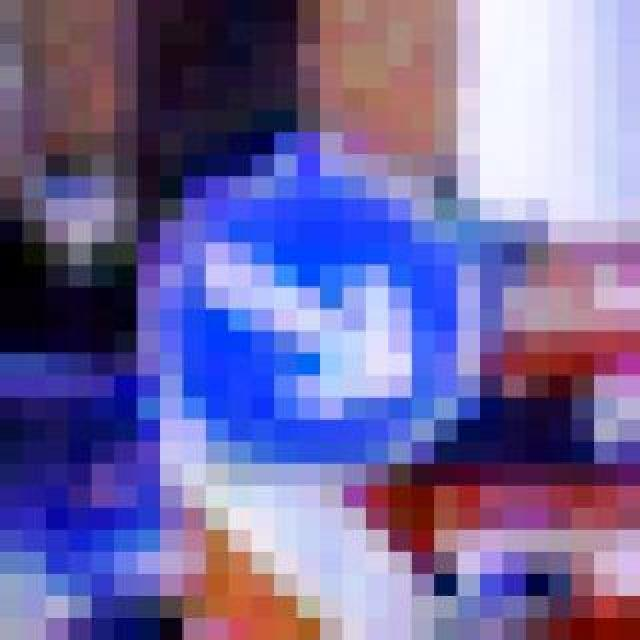keep right: (114, 110, 458, 486)
